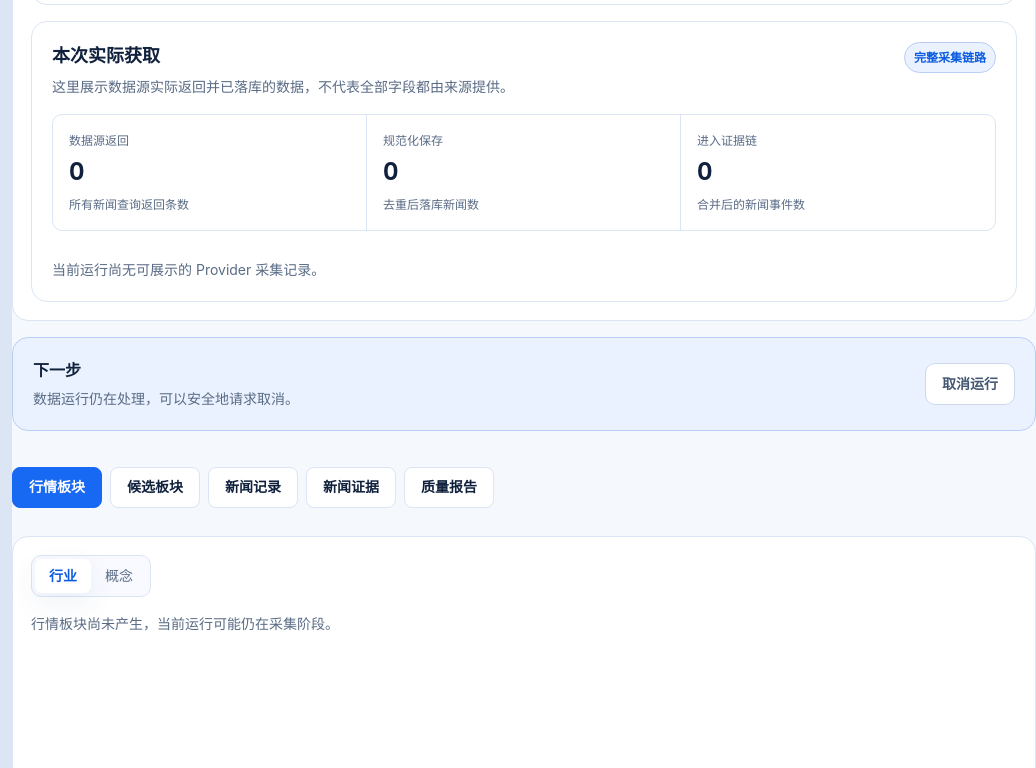
Test: keeps cancelling state until persisted CANCELLED arrives
This screenshot has width=1036, height=768.
(page scrolled)
Click the button "取消运行" at [970, 384], box x1=925 y1=363 x2=1015 y2=405
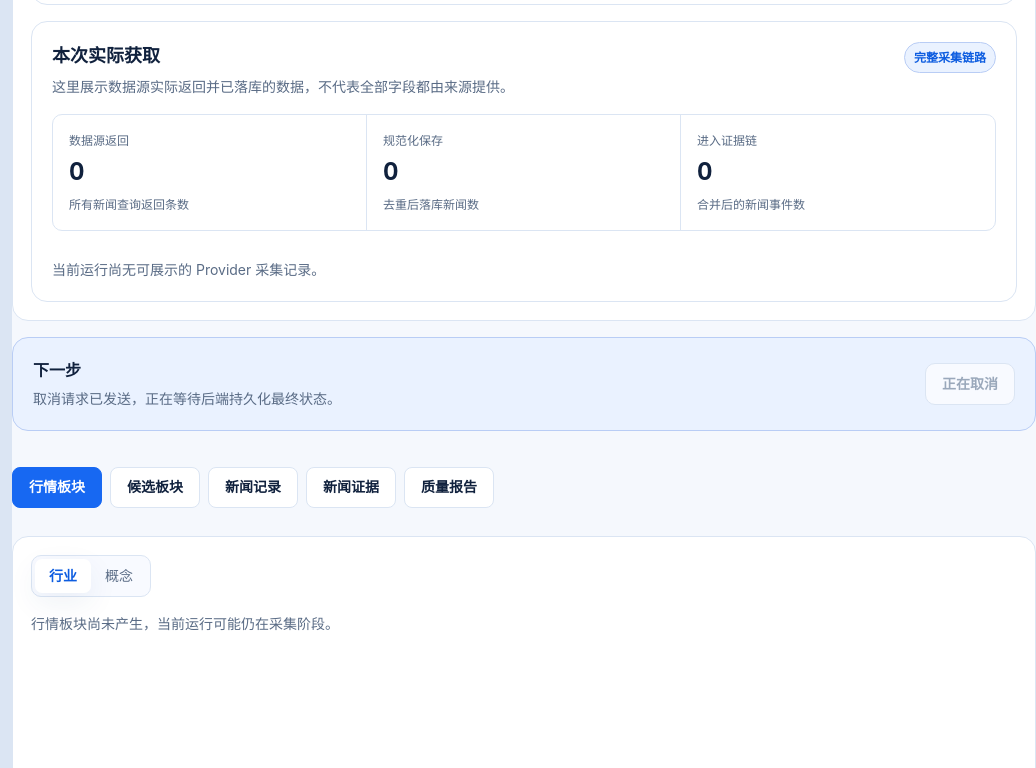
Check: the button "正在取消" is shown, box x1=925 y1=363 x2=1015 y2=405
